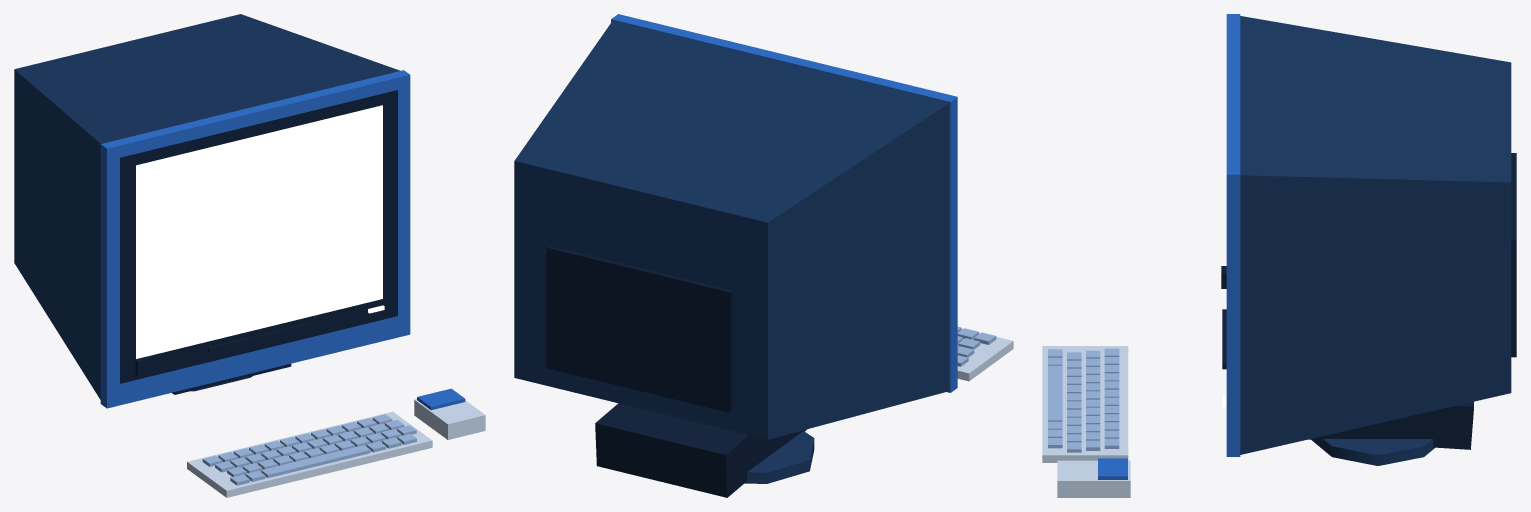
File: all-in-one.glb
3 views of the same model, side by side, from view 1: azimuth 30°, elevation 25°; view 2: azimuth 150°, elevation 25°; view 3: azimuth 270°, elevation 25° (orthographic). The views are drawn at different scales.
Visible parts, largest first — view 1: screen, shell, fascia, bezel, keyboard, mouse, spacebar, cdSlot, mouseBtn; view 2: shell, rearPorts, standWedge, fascia, foot, keyboard; view 3: shell, fascia, keyboard, standWedge, foot, mouse, rearPorts, spacebar, mouseBtn.
Part boxes in pixels (x1,y1,x2,y2): screen: (136,105,382,358); shell: (14,14,400,399); fascia: (100,70,410,408); bezel: (120,90,397,383); keyboard: (187,411,432,497); mouse: (414,399,485,439); spacebar: (261,445,370,477); cdSlot: (207,322,311,353); mouseBtn: (417,388,465,410); shell: (514,21,949,439); rearPorts: (546,245,733,412); standWedge: (595,403,806,497); fascia: (611,14,957,392); foot: (744,431,814,483); keyboard: (957,328,1013,381); shell: (1240,16,1511,454); fascia: (1226,14,1240,456); keyboard: (1042,346,1128,462); standWedge: (1308,401,1473,449); foot: (1311,439,1434,465); mouse: (1057,460,1130,497); rearPorts: (1511,153,1516,357); spacebar: (1048,365,1062,421); mouseBtn: (1098,458,1127,479).
Bounding box in the file's own units: 4.42 × 4.16 × 5.51.
